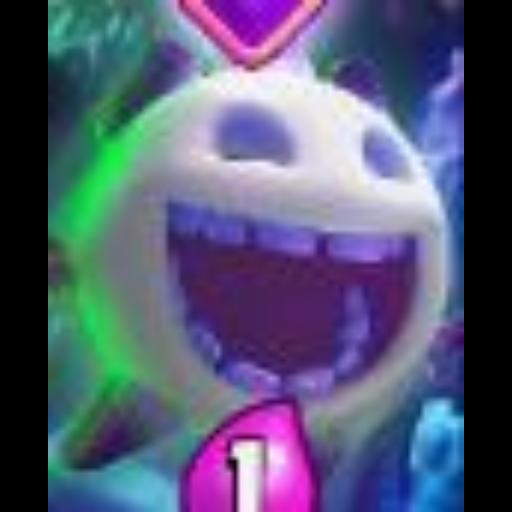ice-spirit-evo: (50, 0, 464, 512)
